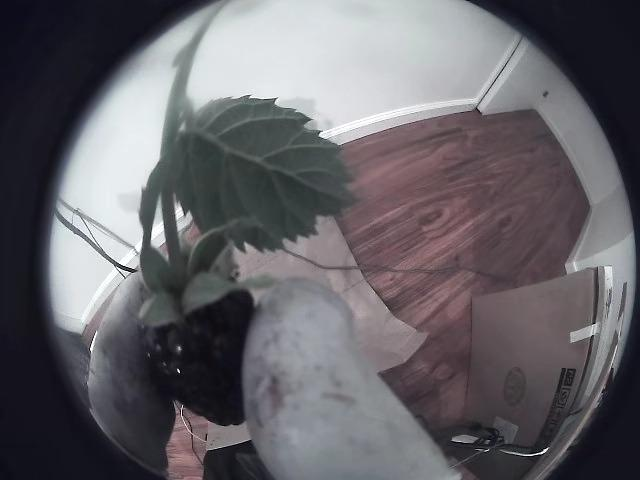berry: (139, 8, 254, 425)
gripper: (243, 278, 460, 479), (89, 273, 174, 475)
lense: (0, 0, 206, 479), (472, 0, 639, 479)
